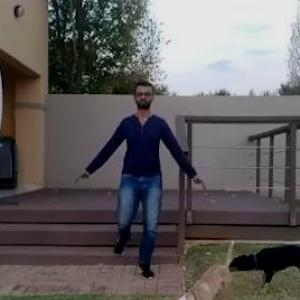land: (94, 91, 186, 262)
